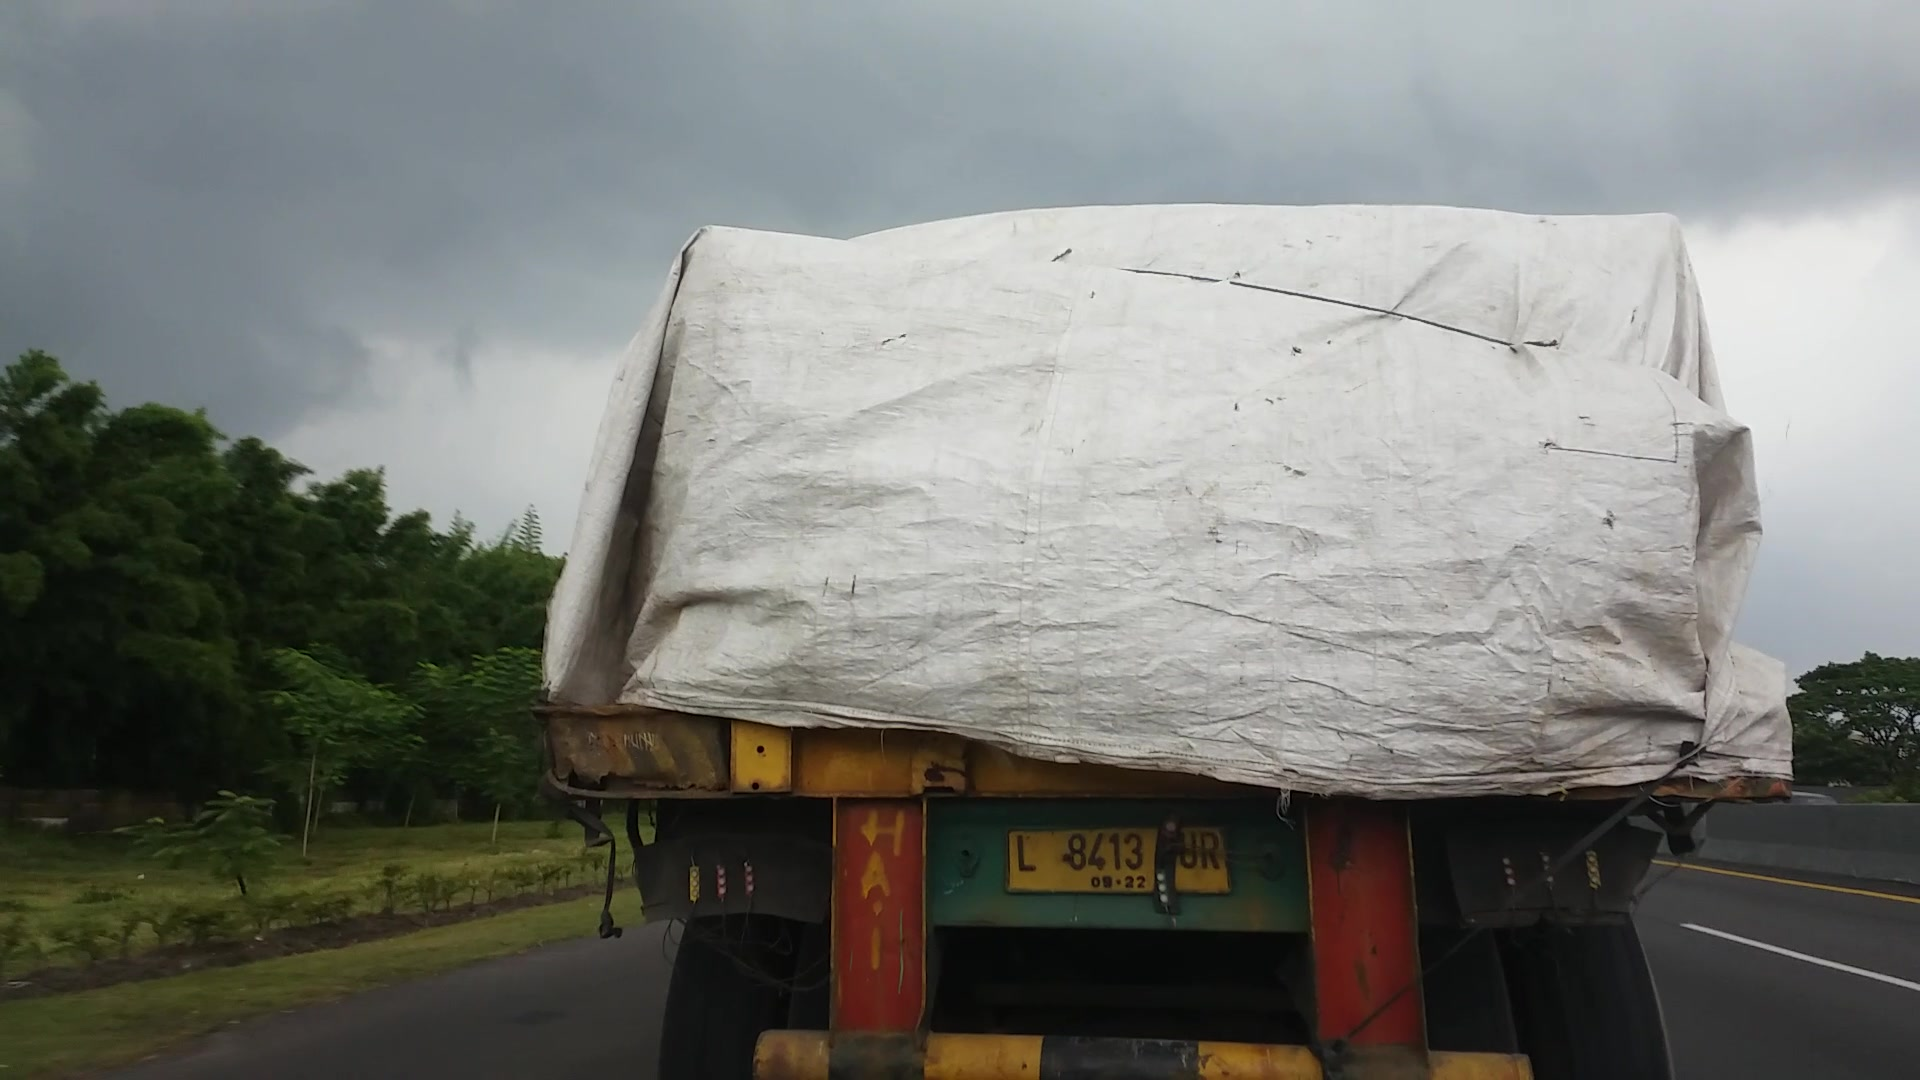plate_positive: (1007, 827, 1230, 895)
